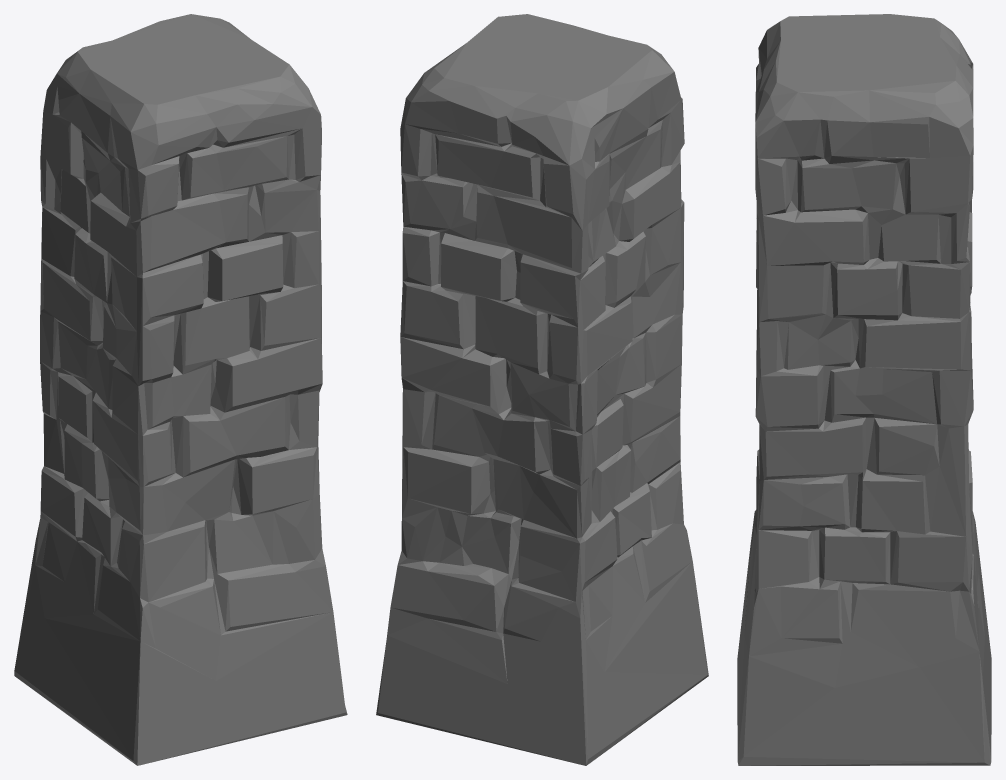
File: village_wall_1m_node.FBX
The picture shows the model from 3 angles, left to right: view 1: azimuth 30°, elevation 25°; view 2: azimuth 150°, elevation 25°; view 3: azimuth 270°, elevation 25°; orthographic projection. The views are drawn at different scales.
Visible parts, largest first — view 1: village_wall_1m_node; view 2: village_wall_1m_node; view 3: village_wall_1m_node.
Part boxes in pixels (bbox=[...]): village_wall_1m_node: bbox=[14, 14, 347, 765]; village_wall_1m_node: bbox=[376, 14, 708, 765]; village_wall_1m_node: bbox=[737, 14, 991, 765].
Bounding box in the file's own units: 0.6975 × 2 × 0.6987.
